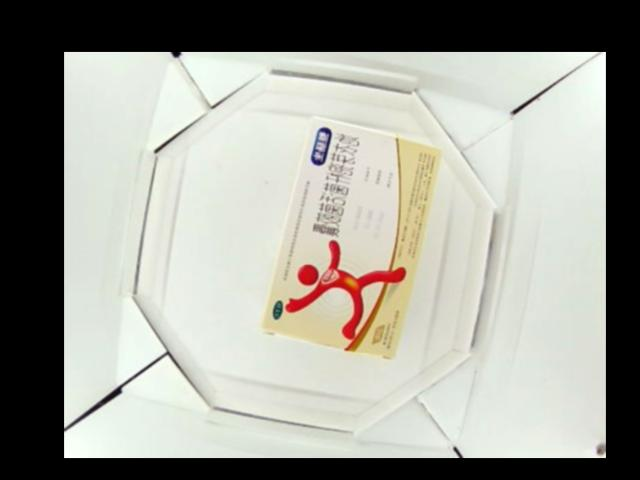Medicine: (264, 115, 444, 358)
